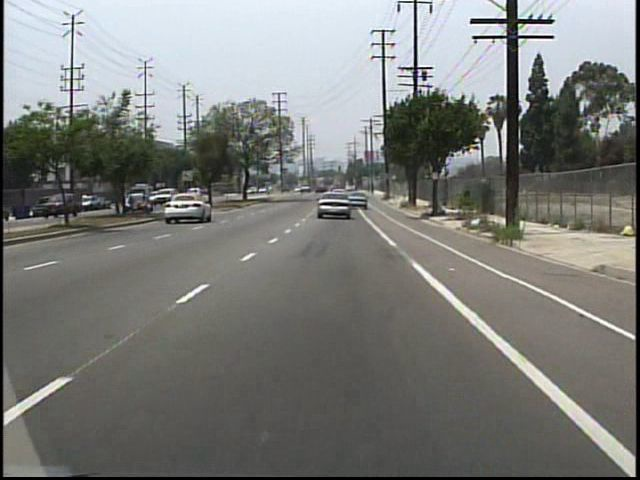person: (82, 192, 91, 213)
